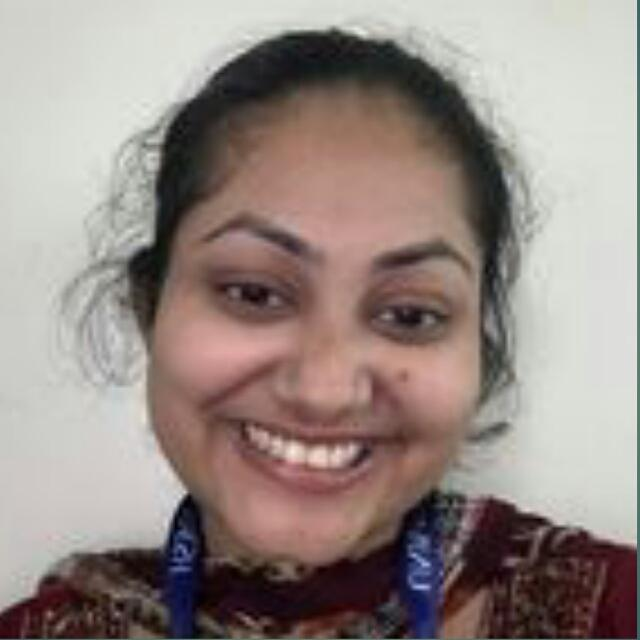Happy: (105, 102, 518, 549)
